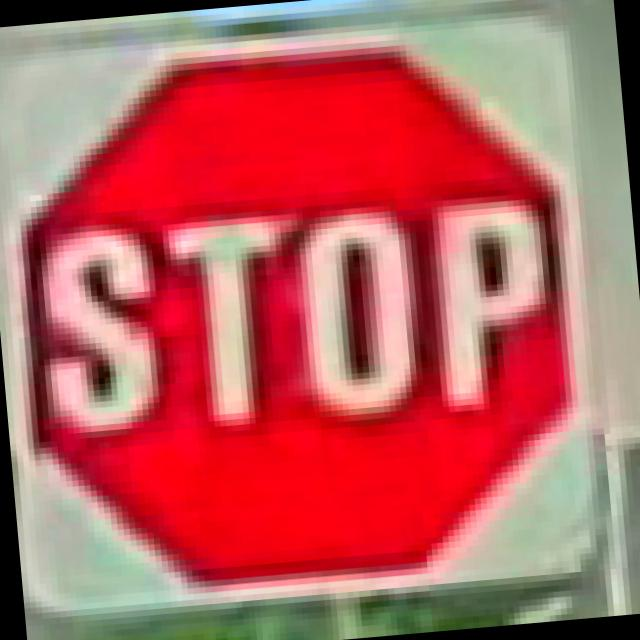mandatorystop_sign: (0, 13, 603, 613)
